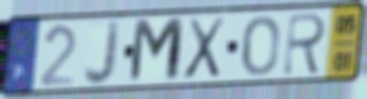2: (39, 23, 79, 88)
J: (82, 17, 124, 88)
M: (126, 15, 187, 86)
O: (240, 14, 281, 79)
R: (280, 10, 329, 78)
X: (181, 15, 228, 83)
